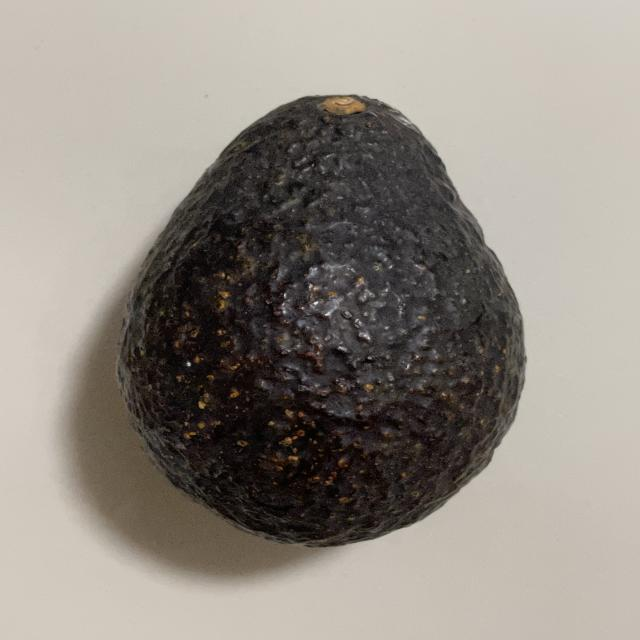Level2: (106, 90, 536, 552)
